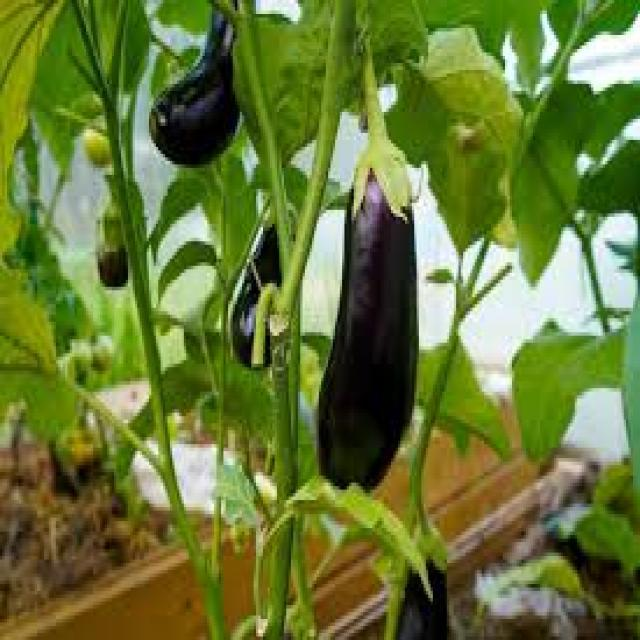Eggplant: (312, 88, 420, 496), (146, 0, 258, 166), (230, 171, 292, 370), (396, 504, 454, 640), (95, 197, 135, 292)
